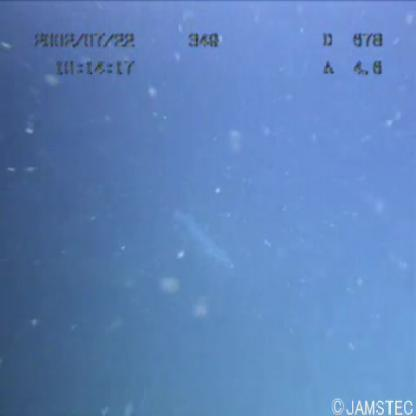Rác: (155, 190, 246, 286)
